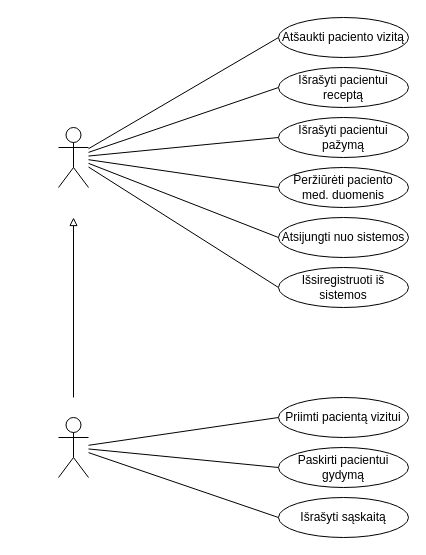
Image size: 426x555. Some labels were removed from this diagram. Here are the shapes that lost their labels. From the top down, the centre of each, then its label:
(73,157): Prisijungusi seselė
(73,447): Prisijungęs gydytojas
